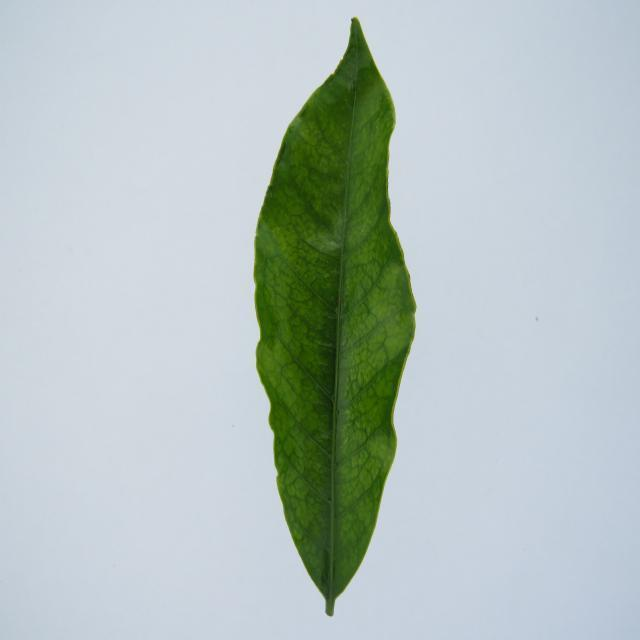DeficienciaNutricional-Hierro: (254, 18, 416, 615)
